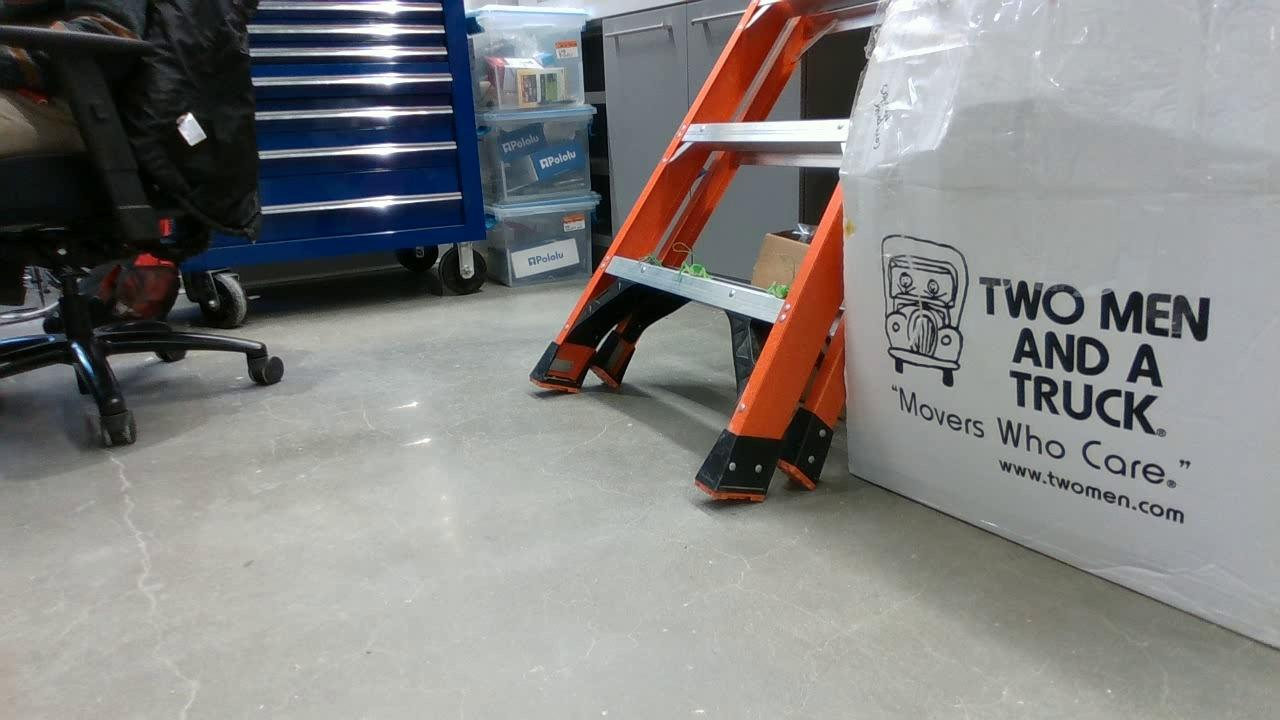grasshopper: (679, 260, 710, 280), (760, 281, 789, 299)
